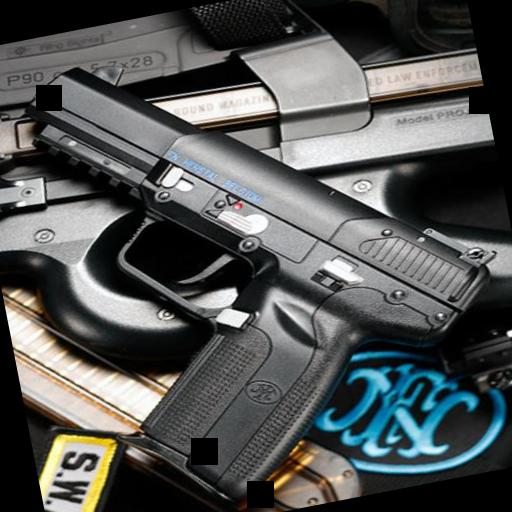Handgun: (9, 0, 512, 512)
